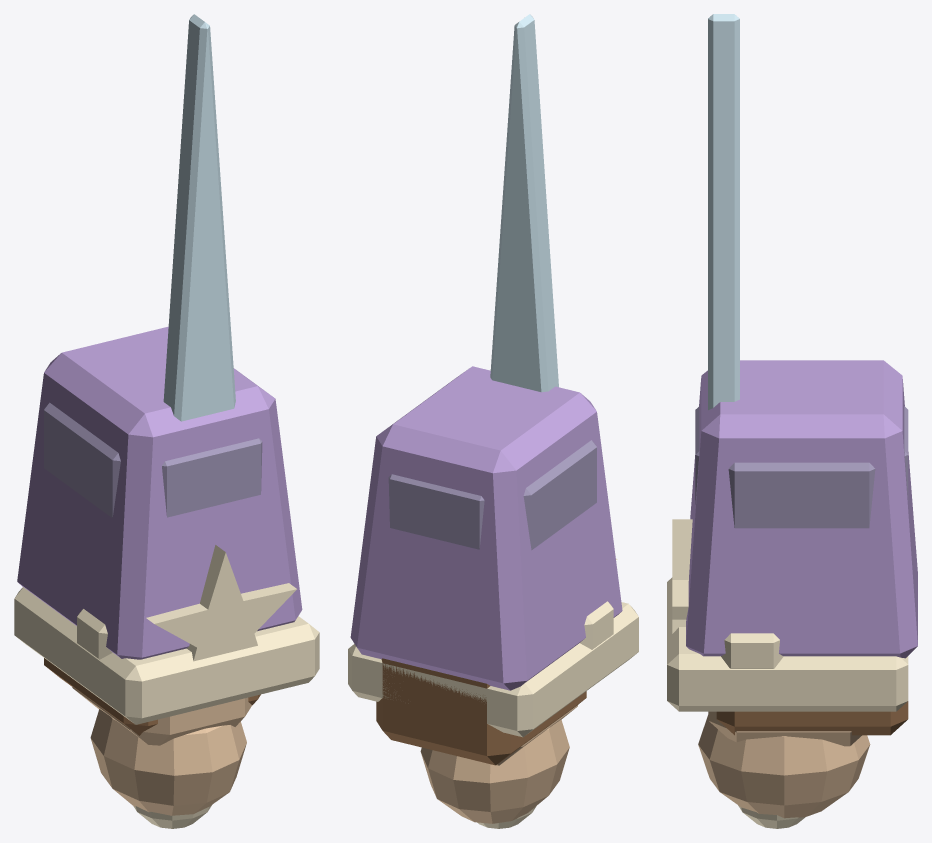
Rendered from Oracle_Runner_RightArm.fbx.
3 renders of one model, left to right at view 1: azimuth 30°, elevation 25°; view 2: azimuth 150°, elevation 25°; view 3: azimuth 270°, elevation 25°, orthographic. The views are drawn at different scales.
Parts seen in each view (by area): view 1: Oracle_Runner_RightArm; view 2: Oracle_Runner_RightArm; view 3: Oracle_Runner_RightArm.
Boxes of the visible parts, x1,y1,x2,y2 form: Oracle_Runner_RightArm: (14, 14, 319, 828); Oracle_Runner_RightArm: (348, 14, 638, 828); Oracle_Runner_RightArm: (667, 14, 917, 828).
Size of the model in its own units: 31 by 126 by 35.33.
